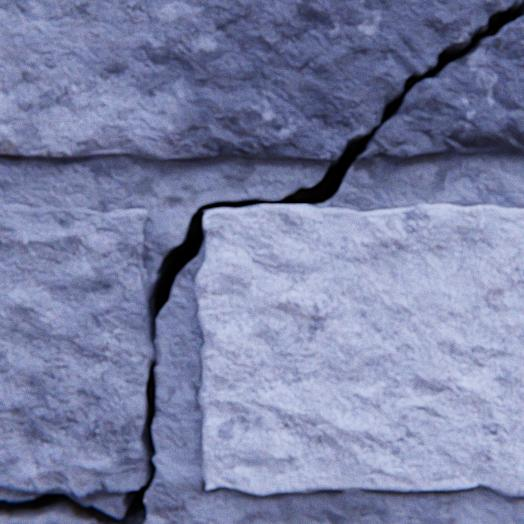brick: (195, 204, 523, 495), (0, 204, 153, 496)
broken_brick: (0, 0, 523, 161), (357, 3, 523, 162)
crack: (0, 1, 523, 523)
